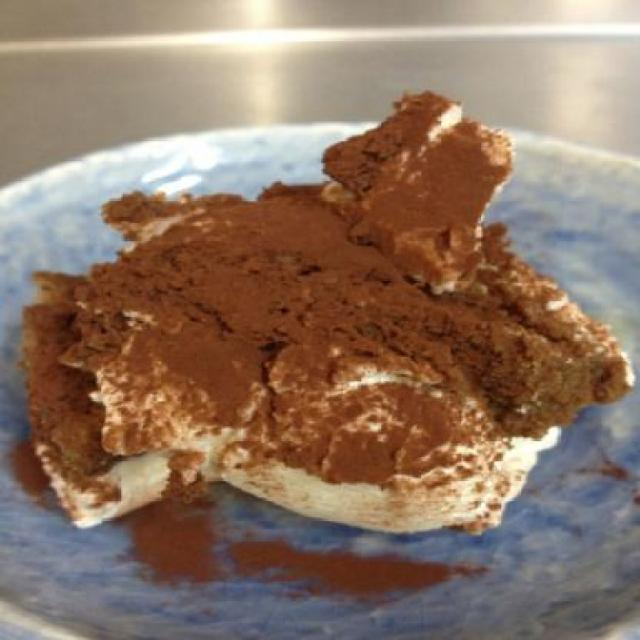Tiramisu: (26, 128, 620, 534)
